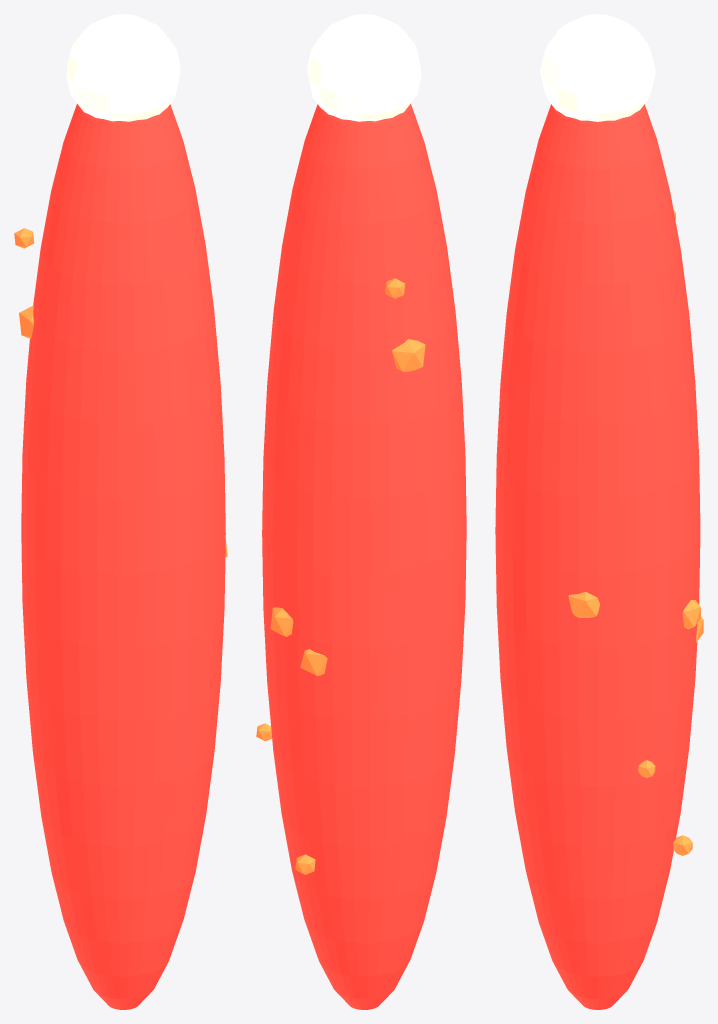
File: laser_red_plasma.glb
The picture shows the model from 3 angles, left to right: view 1: azimuth 30°, elevation 25°; view 2: azimuth 150°, elevation 25°; view 3: azimuth 270°, elevation 25°; orthographic projection.
Parts seen in each view (by area): view 1: laser_red_plasma; view 2: laser_red_plasma; view 3: laser_red_plasma.
Boxes of the visible parts, x1,y1,x2,y2 form: laser_red_plasma: (14, 14, 227, 1009); laser_red_plasma: (256, 14, 466, 1009); laser_red_plasma: (495, 14, 703, 1009).
Bounding box in the file's own units: 0.2828 × 1.45 × 0.2761.
